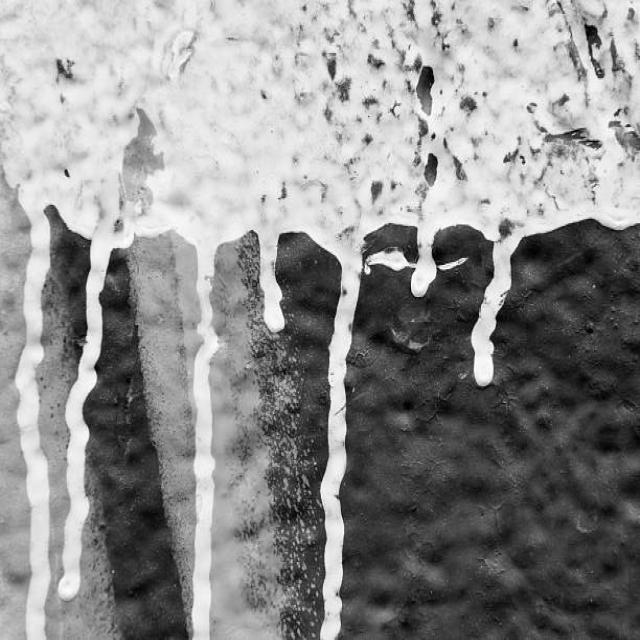paint drips: (402, 139, 640, 406), (53, 196, 168, 604), (304, 209, 398, 640), (170, 218, 238, 640), (9, 182, 56, 640), (243, 205, 301, 356)
